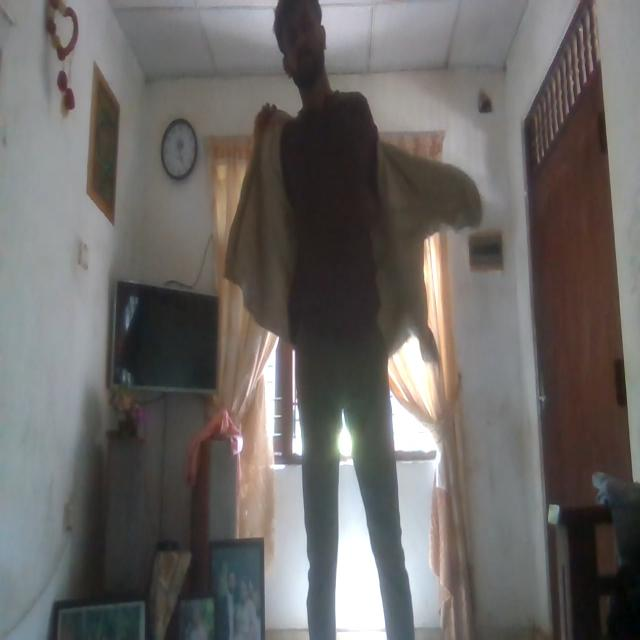Jacket_Wearer: (220, 93, 460, 339)
Person: (260, 0, 418, 640)
